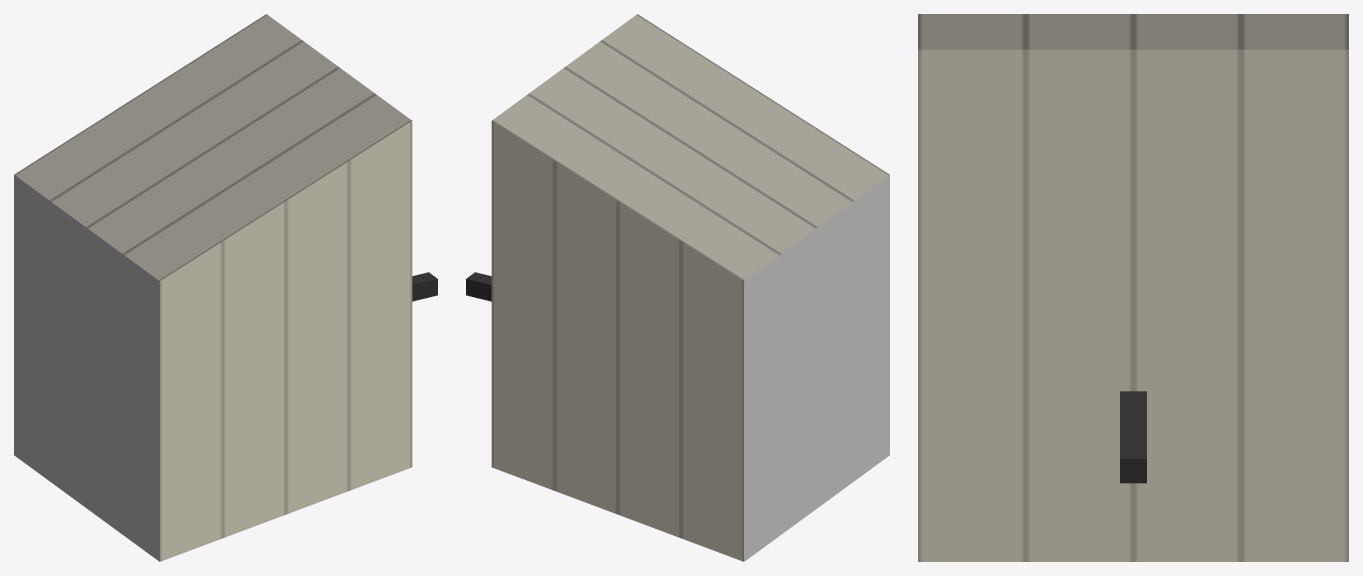
File: dc_metro_roof_f3l.obj
3 views of the same model, side by side, from view 1: azimuth 30°, elevation 25°; view 2: azimuth 150°, elevation 25°; view 3: azimuth 270°, elevation 25° (orthographic). The views are drawn at different scales.
Visible parts, largest first — view 1: part3l; view 2: part3l; view 3: part3l.
Boxes of the visible parts, x1,y1,x2,y2 form: part3l: [14, 14, 437, 561]; part3l: [466, 14, 889, 561]; part3l: [918, 14, 1348, 561].
Bounding box in the file's own units: 1.37 × 1.44 × 1.
Materials: 4 (4 with a texture image).
